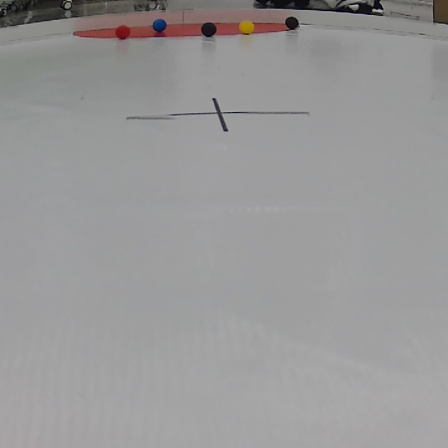black: (285, 14, 299, 31), (201, 23, 217, 35)
blue: (151, 18, 168, 32)
red: (114, 26, 132, 41)
red_base: (69, 21, 296, 35)
yellow: (241, 20, 256, 36)
